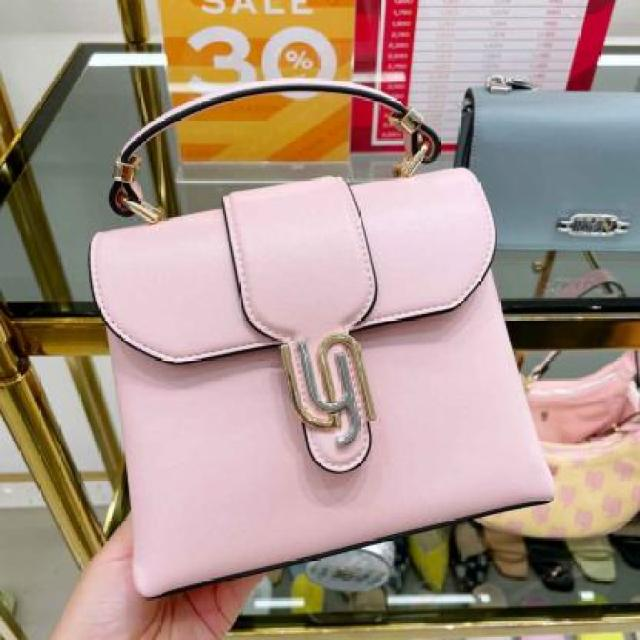Bag: (71, 56, 555, 604)
